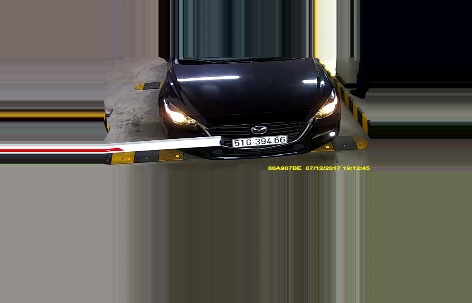plate: (230, 133, 288, 149)
